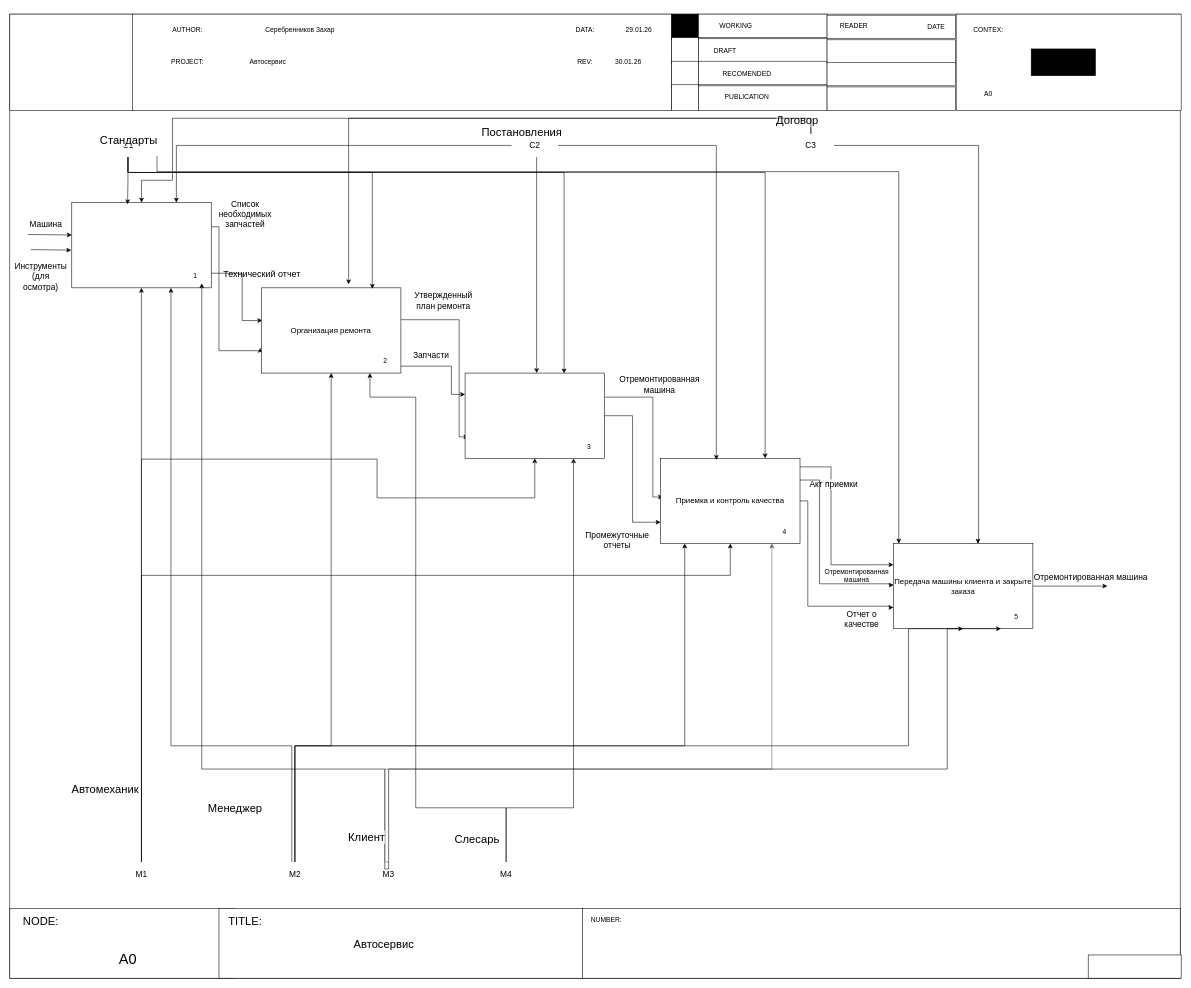
This 1191x988 diagram has some shape labels left out. The shapes that lost their labels are listed below. From the top down, each one's box as (x1, y1, x2, y2) in pixels, then its label:
(9, 14, 134, 111): USED AT:
(71, 202, 211, 288): Прием и диагностика машины
(465, 373, 605, 458): Выполнение ремонтных работ
